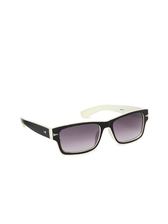glasses: (15, 104, 154, 155)
